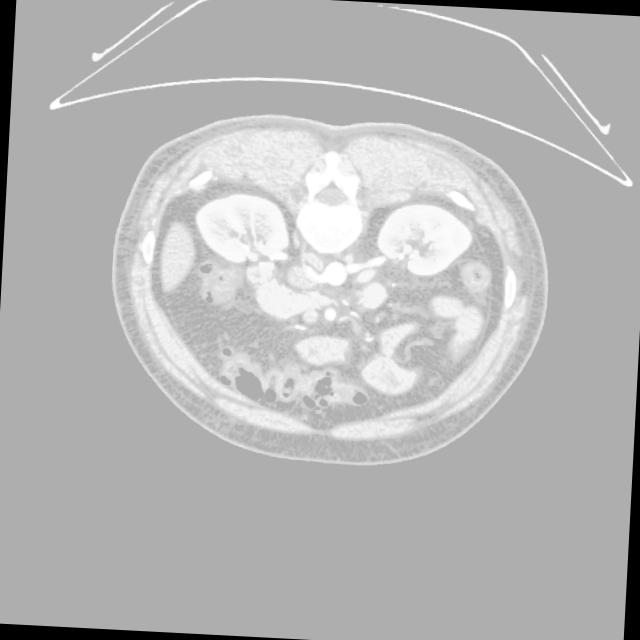NORMAL: (103, 79, 556, 477)
